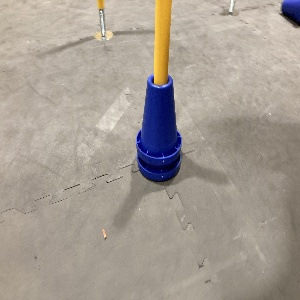Blue_2: (131, 71, 186, 185)
